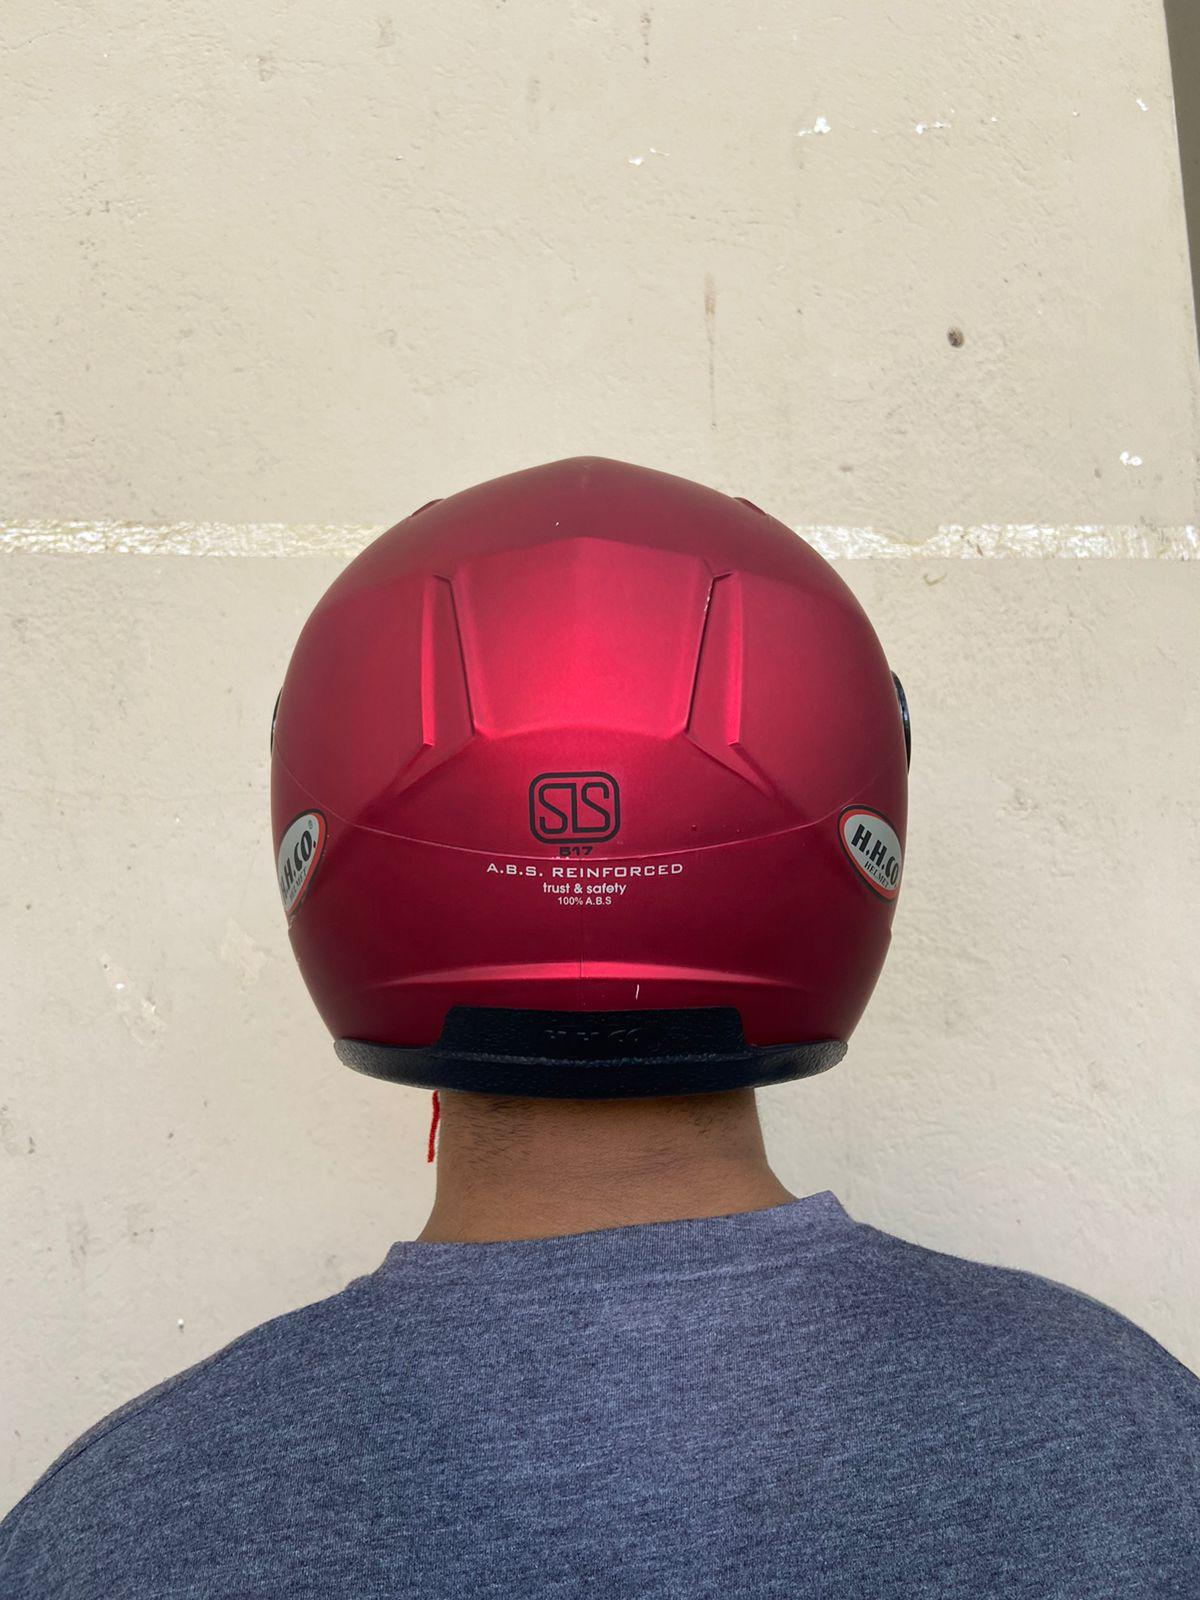helmet: (263, 454, 913, 1102)
